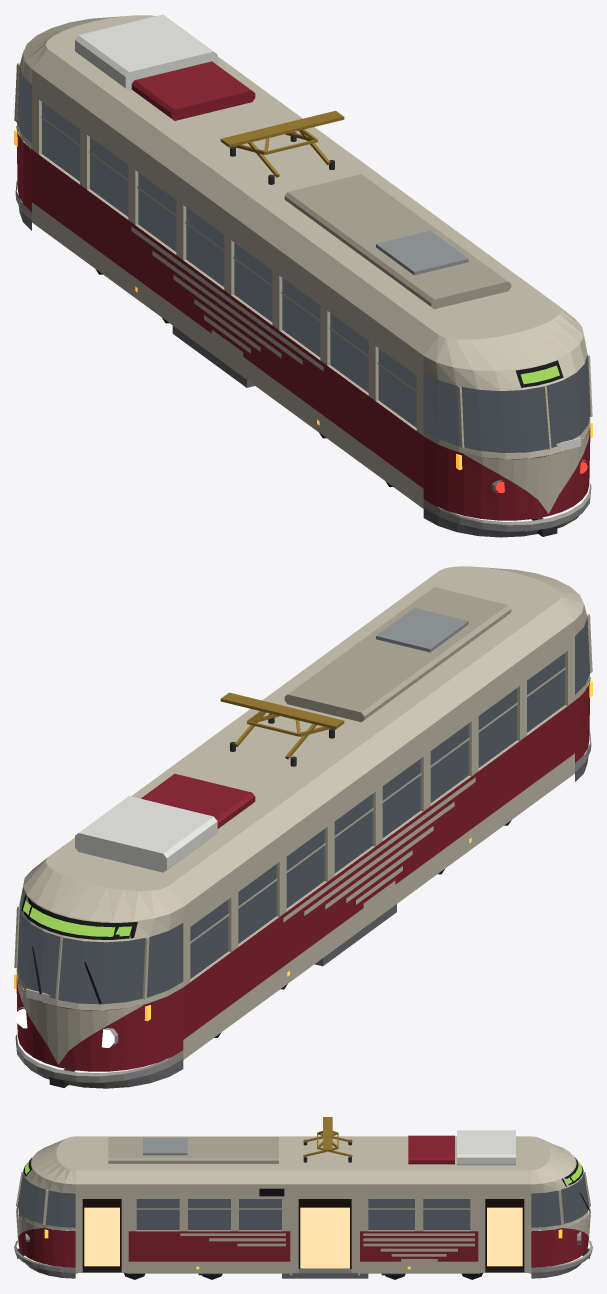
File: t3rplf-open.glb
The picture shows the model from 3 angles, top to bottom: view 1: azimuth 30°, elevation 25°; view 2: azimuth 150°, elevation 25°; view 3: azimuth 270°, elevation 25°; orthographic projection. The views are drawn at different scales.
Parts seen in each view (by area): view 1: t3rplf-open; view 2: t3rplf-open; view 3: t3rplf-open.
Boxes of the visible parts, x1,y1,x2,y2 form: t3rplf-open: (14,14,592,537); t3rplf-open: (14,566,592,1088); t3rplf-open: (14,1117,592,1279).
Bounding box in the file's own units: 2.52 × 3.52 × 14.24.
